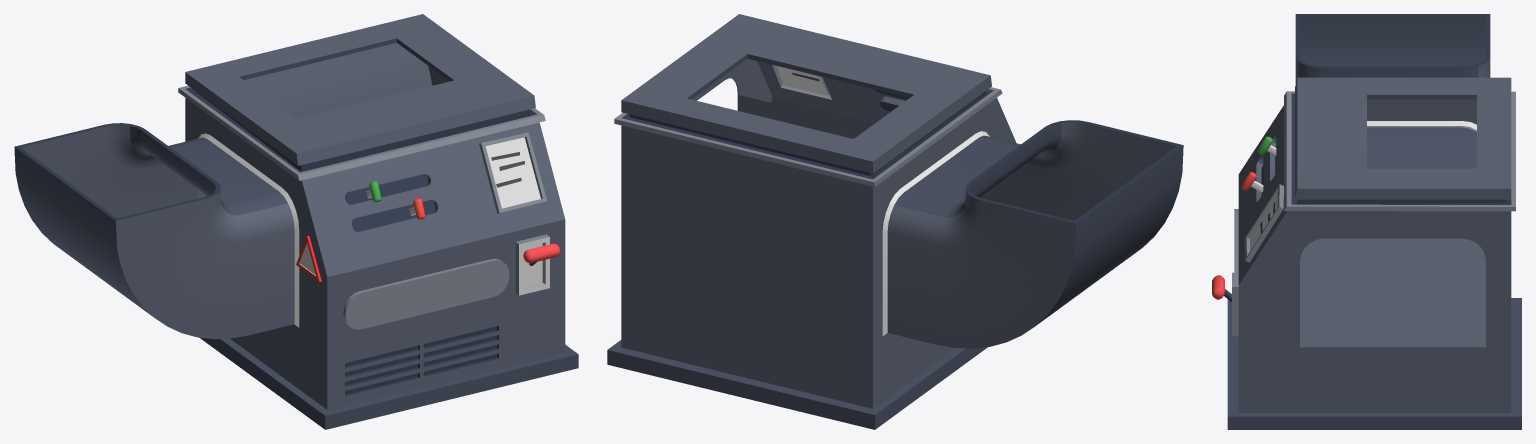
Rendered from Mach_8.fbx.
The picture shows the model from 3 angles, left to right: view 1: azimuth 30°, elevation 25°; view 2: azimuth 150°, elevation 25°; view 3: azimuth 270°, elevation 25°; orthographic projection. The views are drawn at different scales.
Parts seen in each view (by area): view 1: Mach_8; view 2: Mach_8; view 3: Mach_8.
Part boxes in pixels (x1,y1,x2,y2): Mach_8: (14,14,578,429); Mach_8: (607,14,1183,429); Mach_8: (1212,14,1521,429).
Size of the model in its own units: 444 by 246 by 291.
